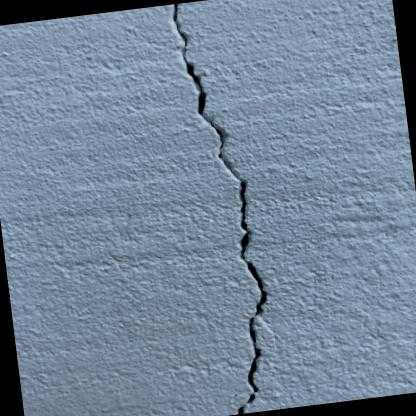crack: (169, 4, 270, 413)
